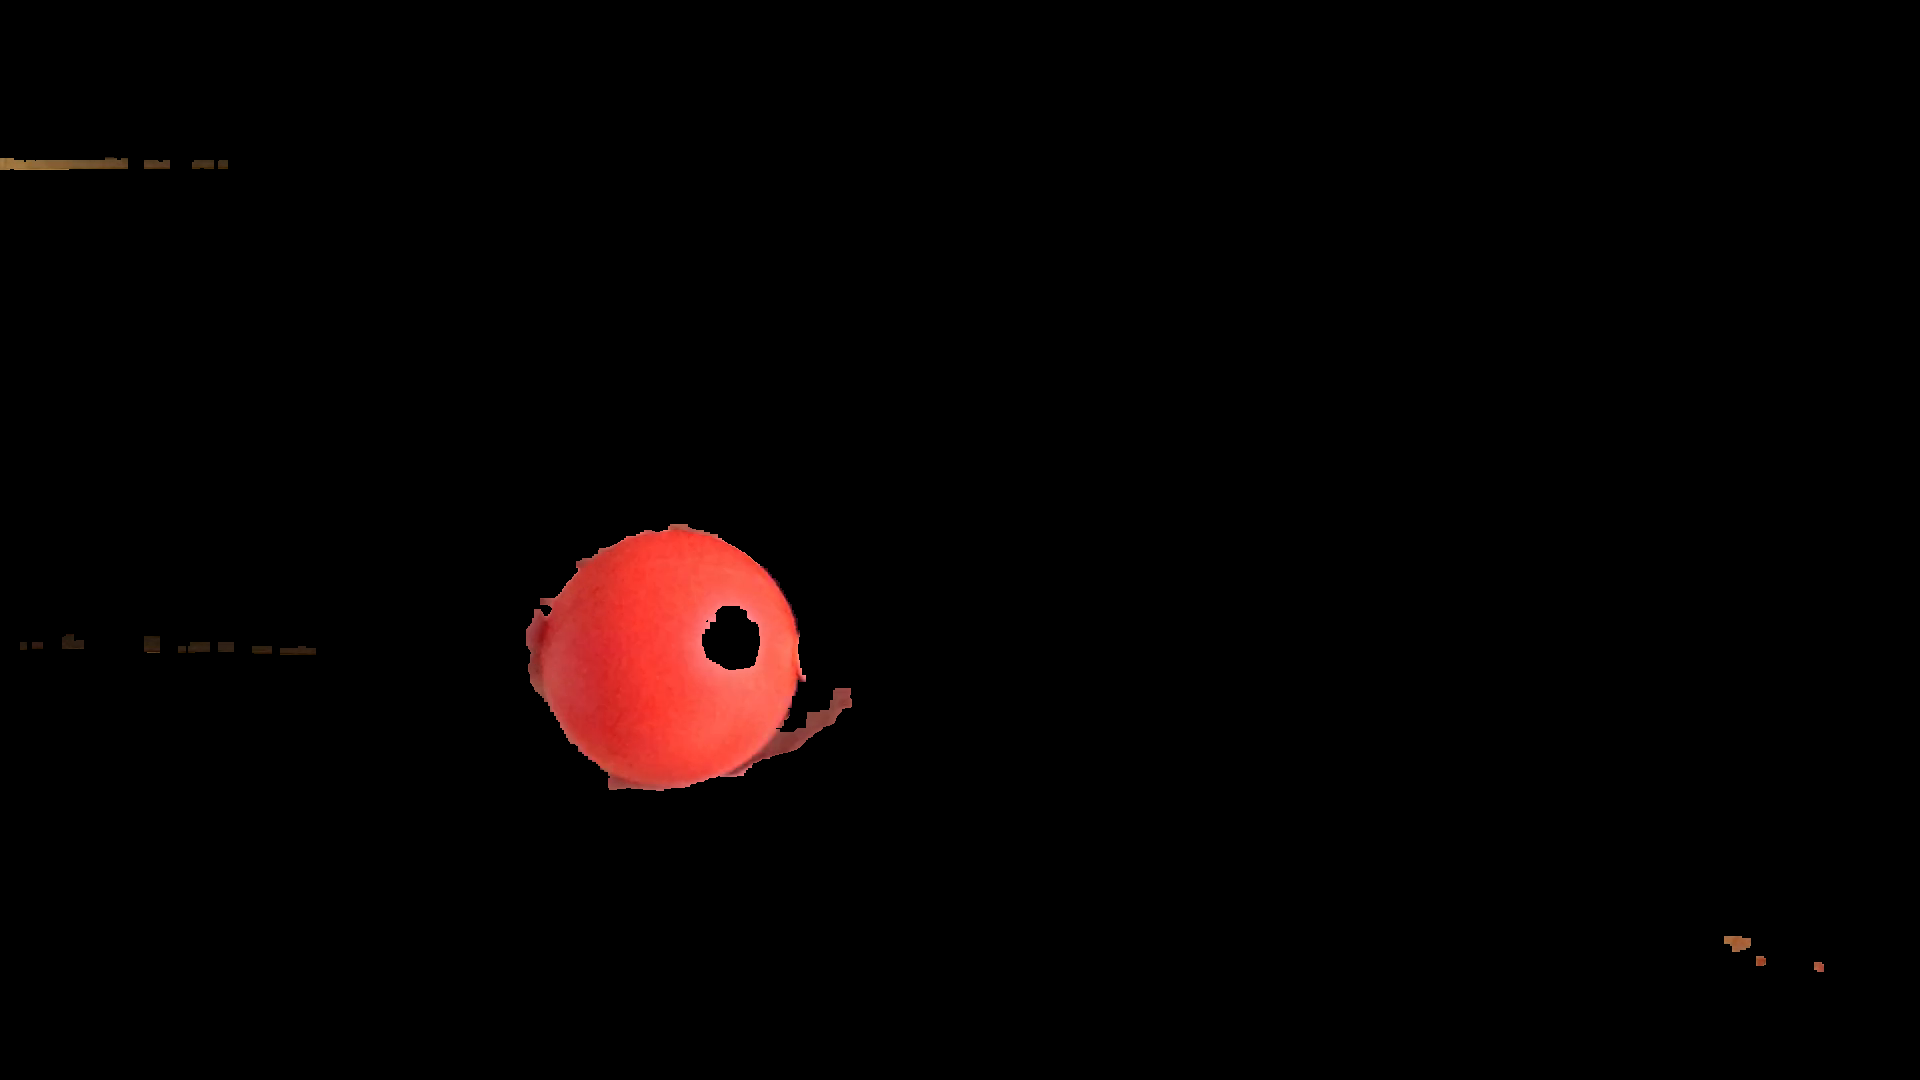Ball: (535, 530, 800, 793)
